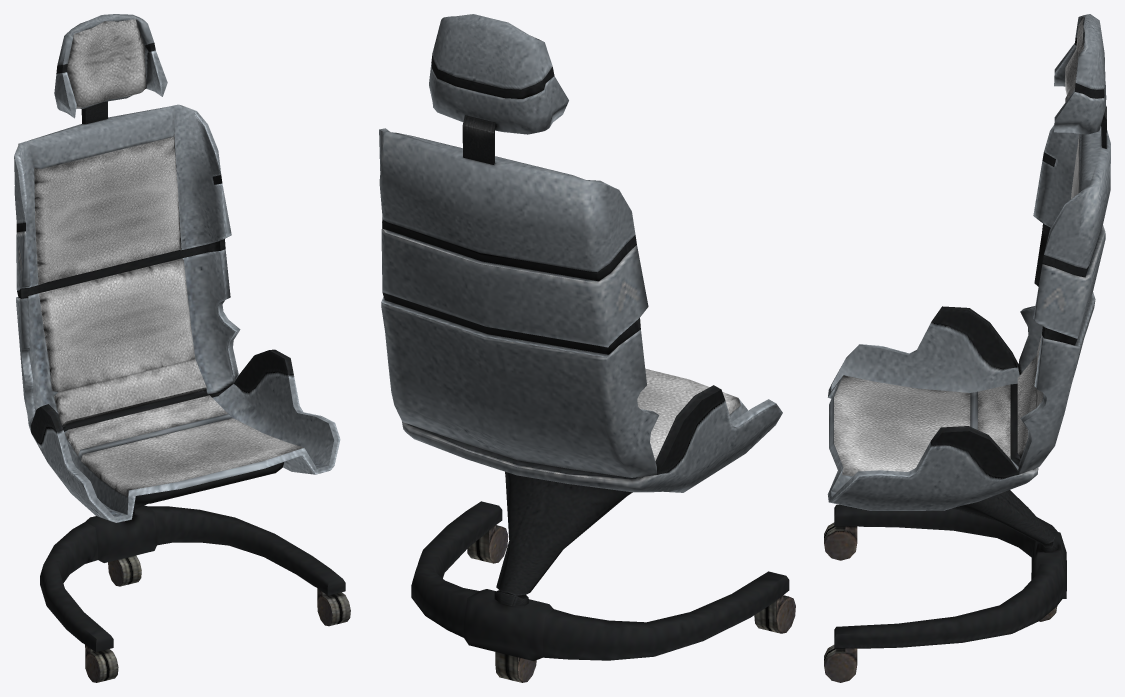
The model's file is M_Home_Garden_Chair_06.fbx.
3 renders of one model, left to right at view 1: azimuth 30°, elevation 25°; view 2: azimuth 150°, elevation 25°; view 3: azimuth 270°, elevation 25°, orthographic. The views are drawn at different scales.
Parts seen in each view (by area): view 1: M_Home_Garden_Chair_06; view 2: M_Home_Garden_Chair_06; view 3: M_Home_Garden_Chair_06.
Boxes of the visible parts, x1,y1,x2,y2 form: M_Home_Garden_Chair_06: (14,14,350,682); M_Home_Garden_Chair_06: (379,14,795,682); M_Home_Garden_Chair_06: (824,14,1110,682).
Size of the model in its own units: 71.33 by 149 by 65.3.
